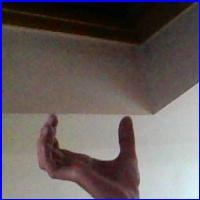space: (29, 109, 155, 197)
